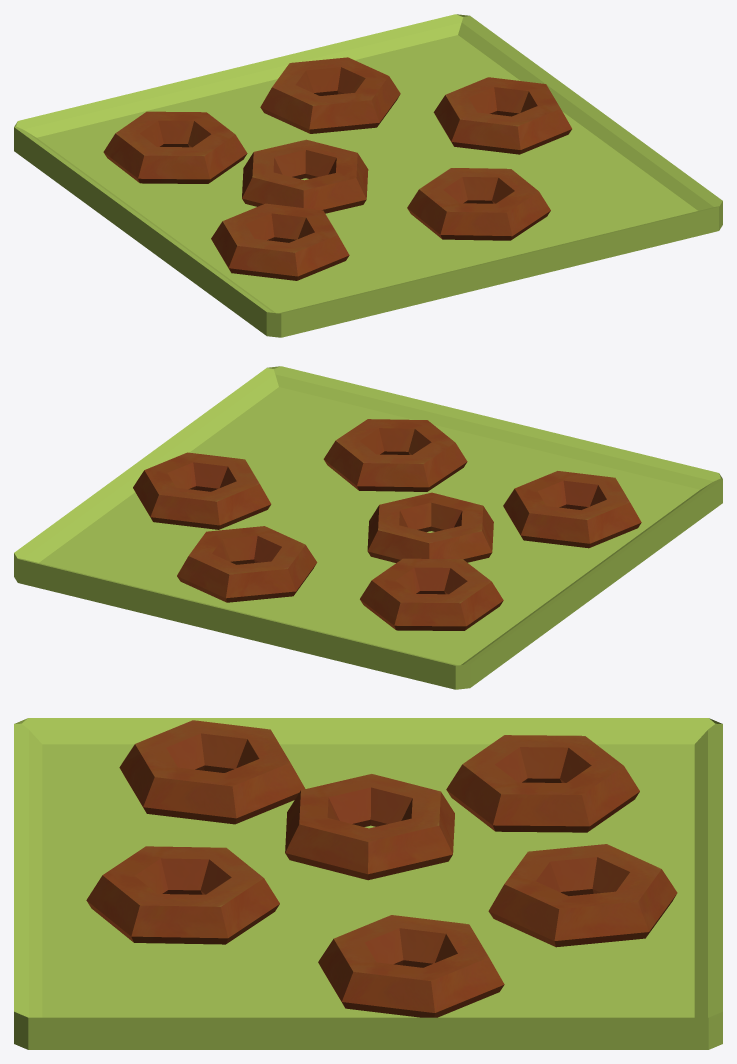
Rendered from Tray.fbx.
3 views of the same model, one above another, from view 1: azimuth 30°, elevation 25°; view 2: azimuth 150°, elevation 25°; view 3: azimuth 270°, elevation 25° (orthographic). The views are drawn at different scales.
Visible parts, largest first — view 1: Dounut_Trey; view 2: Dounut_Trey; view 3: Dounut_Trey.
Part boxes in pixels (box(x1,y1,x2,y2)): Dounut_Trey: box(14, 14, 722, 337); Dounut_Trey: box(14, 366, 722, 689); Dounut_Trey: box(14, 718, 722, 1049).
Size of the model in its own units: 86.46 by 6.86 by 86.46.
